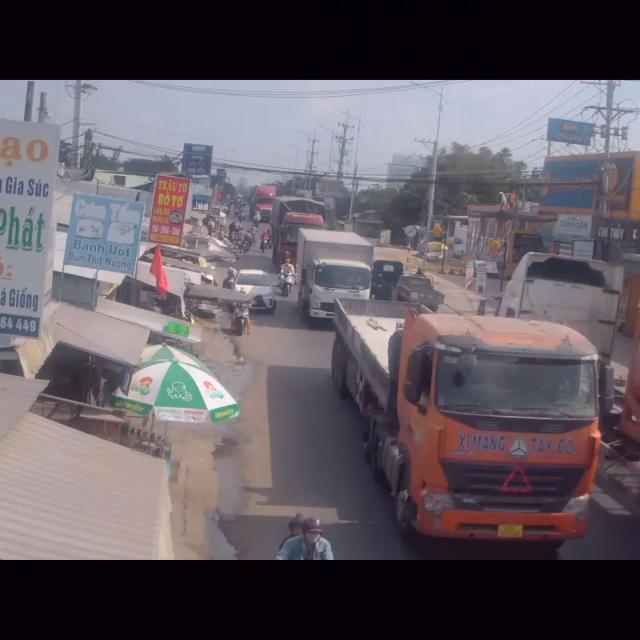motorbike: (278, 516, 332, 560), (280, 257, 295, 294)
truck: (314, 309, 601, 556), (496, 251, 637, 410), (301, 231, 374, 326), (394, 270, 441, 311)
